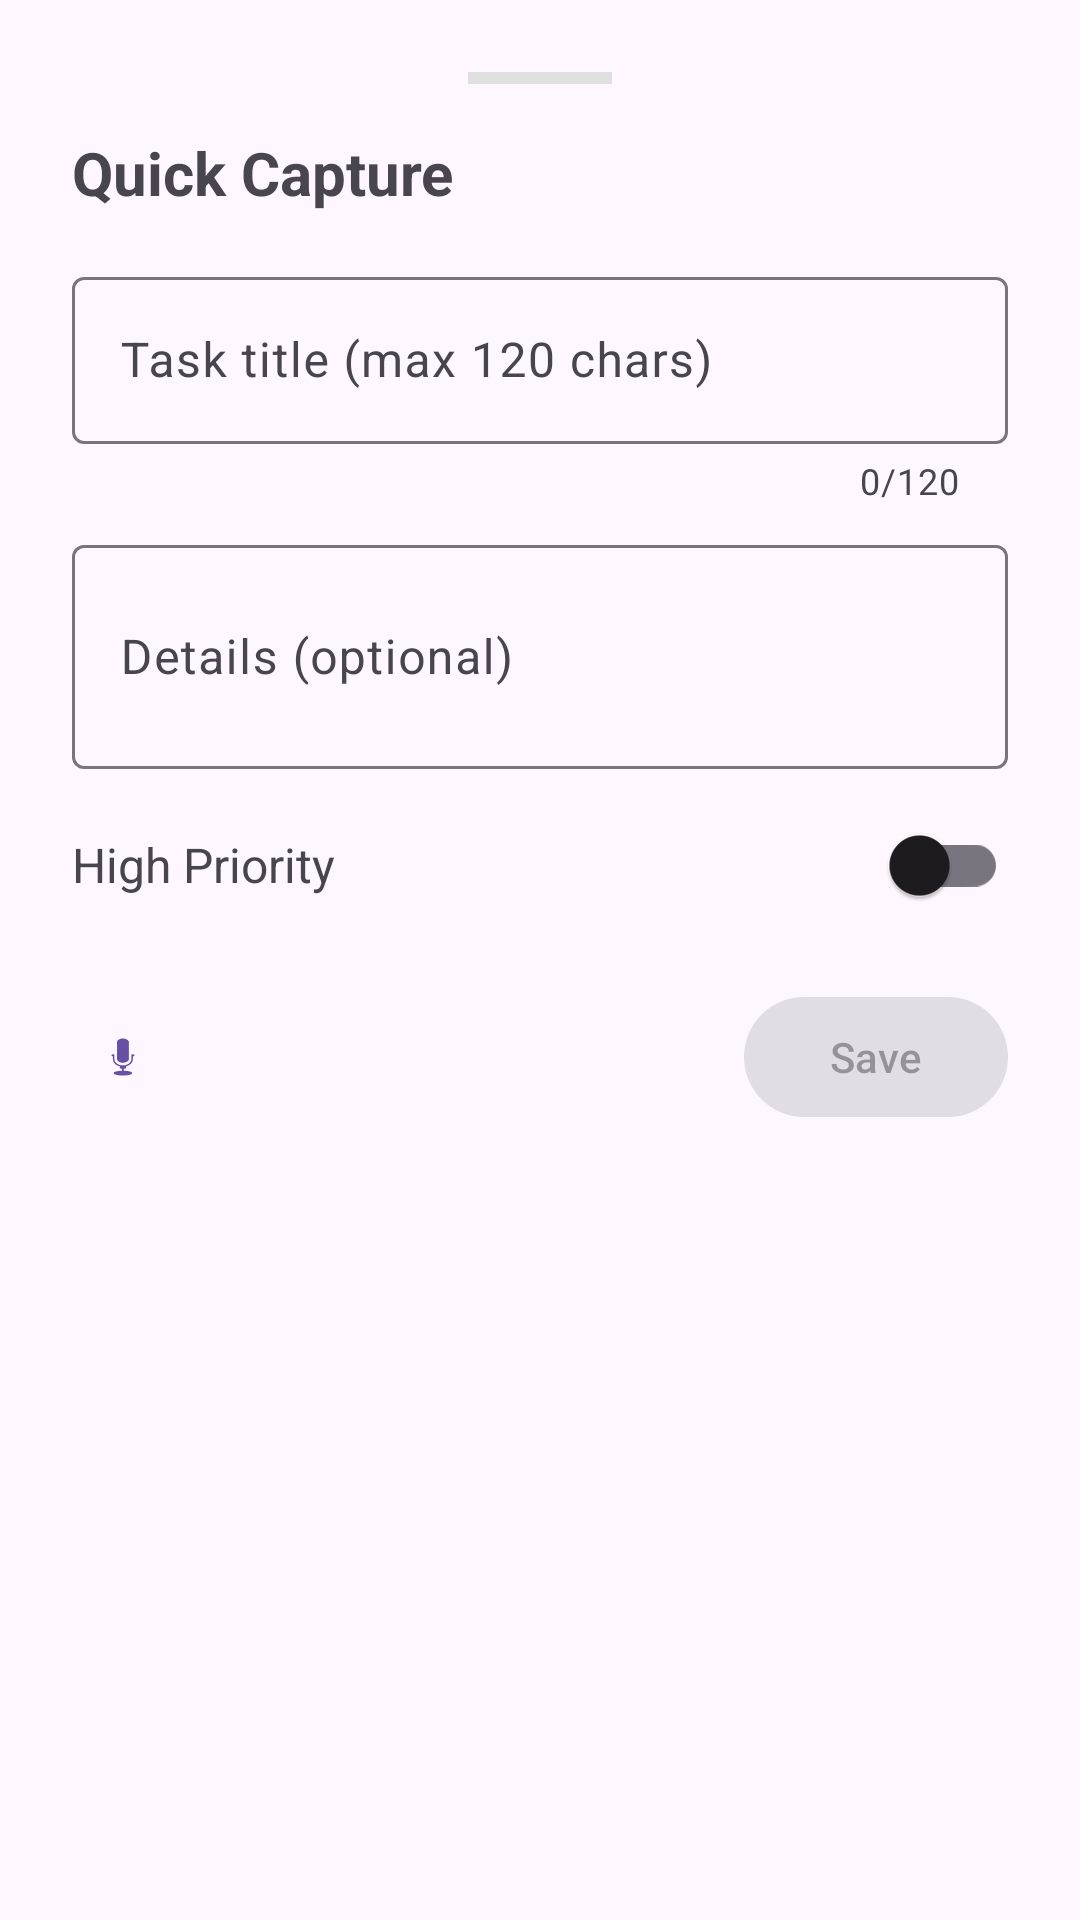

Point at icon controls on the screen. Image size 1080 × 1920, points as [x,y].
Voice capture: [123,1057]
